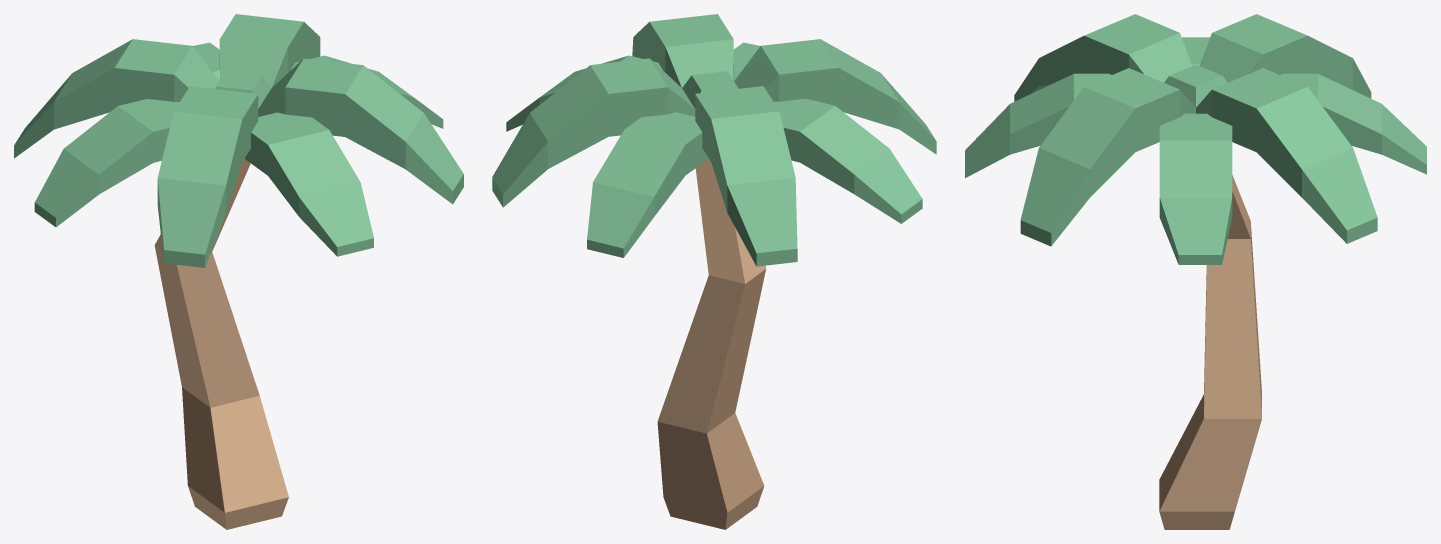
The model's file is palm_detailed_short.glb.
The picture shows the model from 3 angles, left to right: view 1: azimuth 30°, elevation 25°; view 2: azimuth 150°, elevation 25°; view 3: azimuth 270°, elevation 25°; orthographic projection. The views are drawn at different scales.
Visible parts, largest first — view 1: Group 20, Group 18; view 2: Group 20, Group 18; view 3: Group 20, Group 18.
Part boxes in pixels (<box>): Group 20: <box>14,14,463,267</box>; Group 18: <box>154,159,288,529</box>; Group 20: <box>492,14,936,266</box>; Group 18: <box>657,158,766,529</box>; Group 20: <box>965,14,1426,264</box>; Group 18: <box>1159,175,1261,529</box>.
Size of the model in its own units: 1.54 by 1.68 by 1.54.
